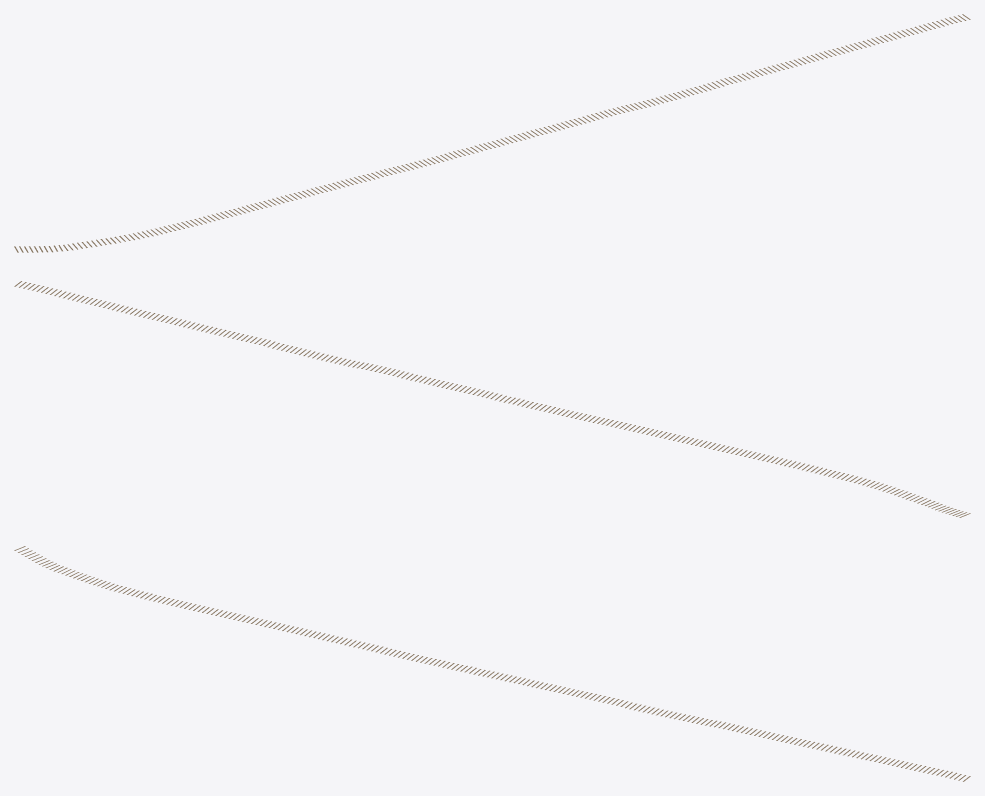
File: c_1624_17828_rail_sleeper.glb
The picture shows the model from 3 angles, top to bottom: view 1: azimuth 30°, elevation 25°; view 2: azimuth 150°, elevation 25°; view 3: azimuth 330°, elevation 25°; orthographic projection.
Visible parts, largest first — view 1: geometry_0; view 2: geometry_0; view 3: geometry_0.
Part boxes in pixels (x1,y1,x2,y2): geometry_0: (14, 14, 970, 252); geometry_0: (14, 281, 970, 517); geometry_0: (14, 546, 970, 781).
Bounding box in the file's own units: 173 × 0.8458 × 6.62.
